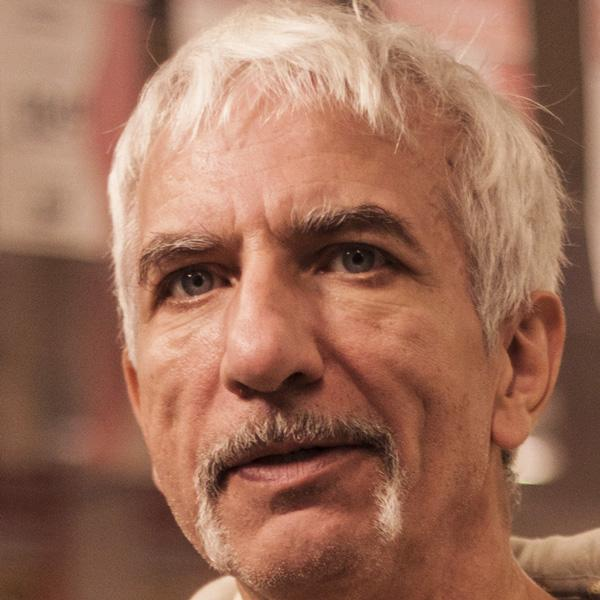Eyes: (145, 252, 243, 318), (305, 234, 408, 295)
